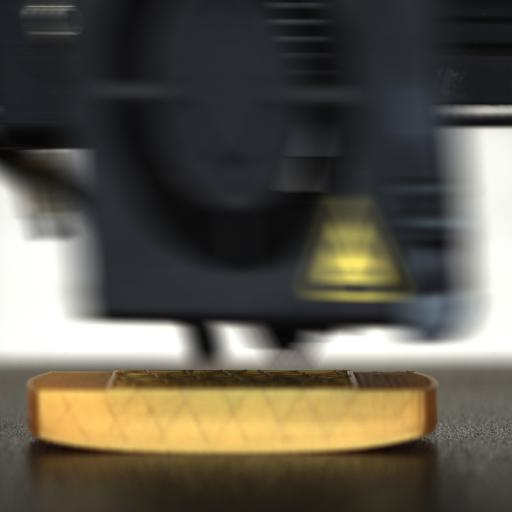warp: (378, 412, 444, 451)
